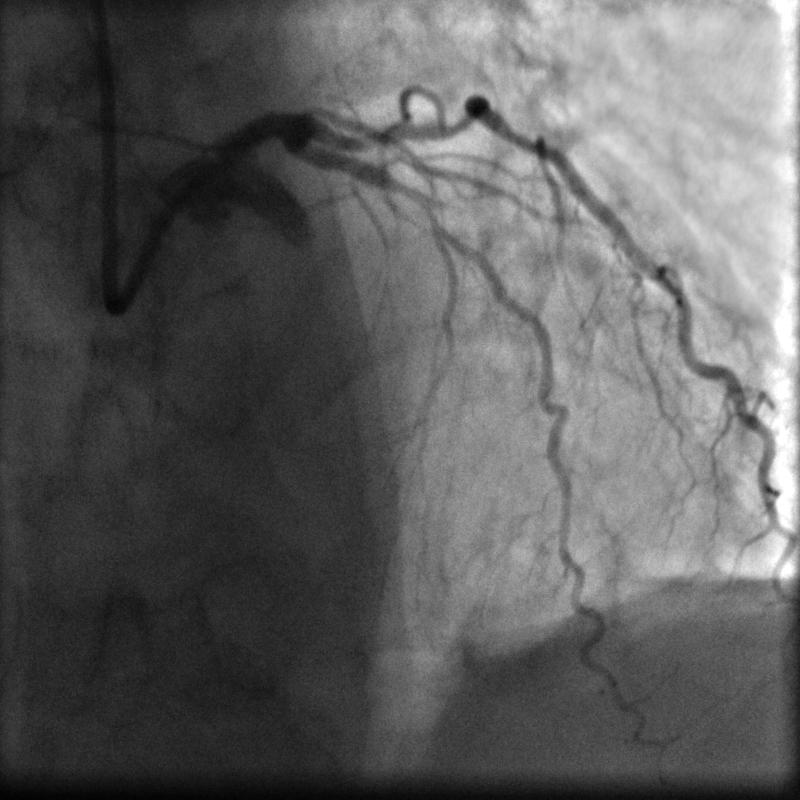Stenosis: (398, 176, 447, 242)
